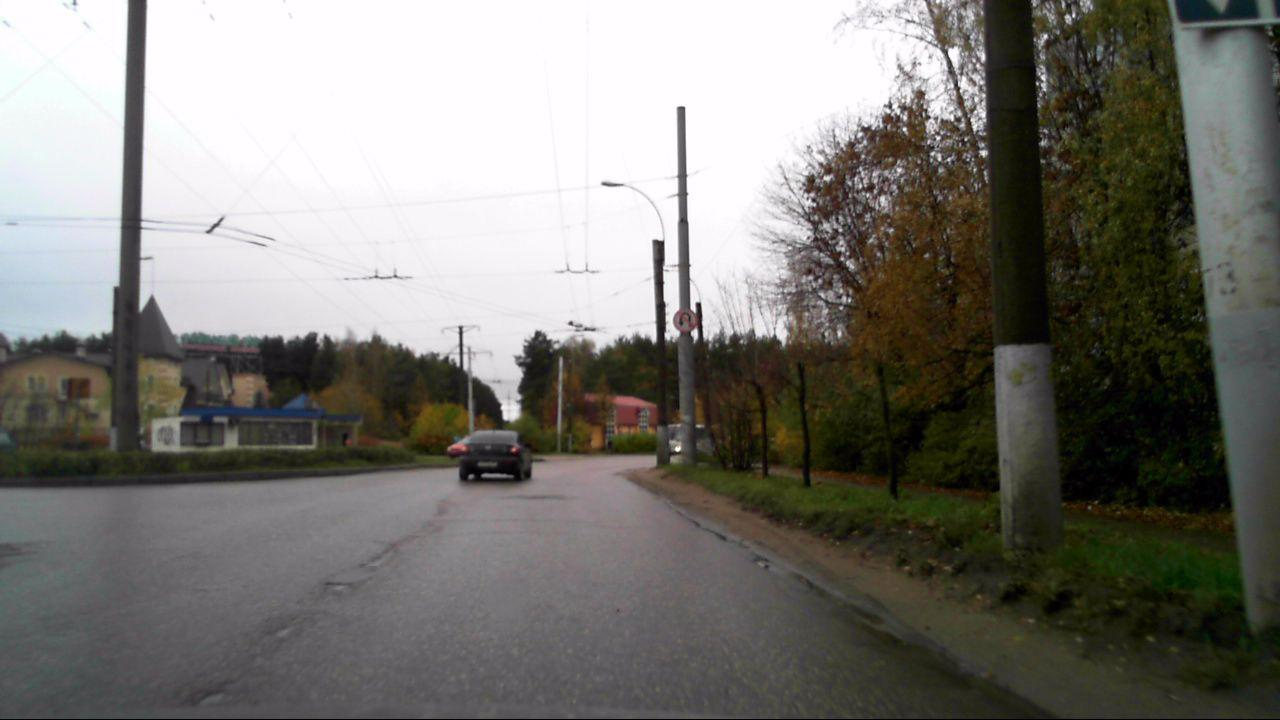road_sign: (673, 307, 697, 332)
